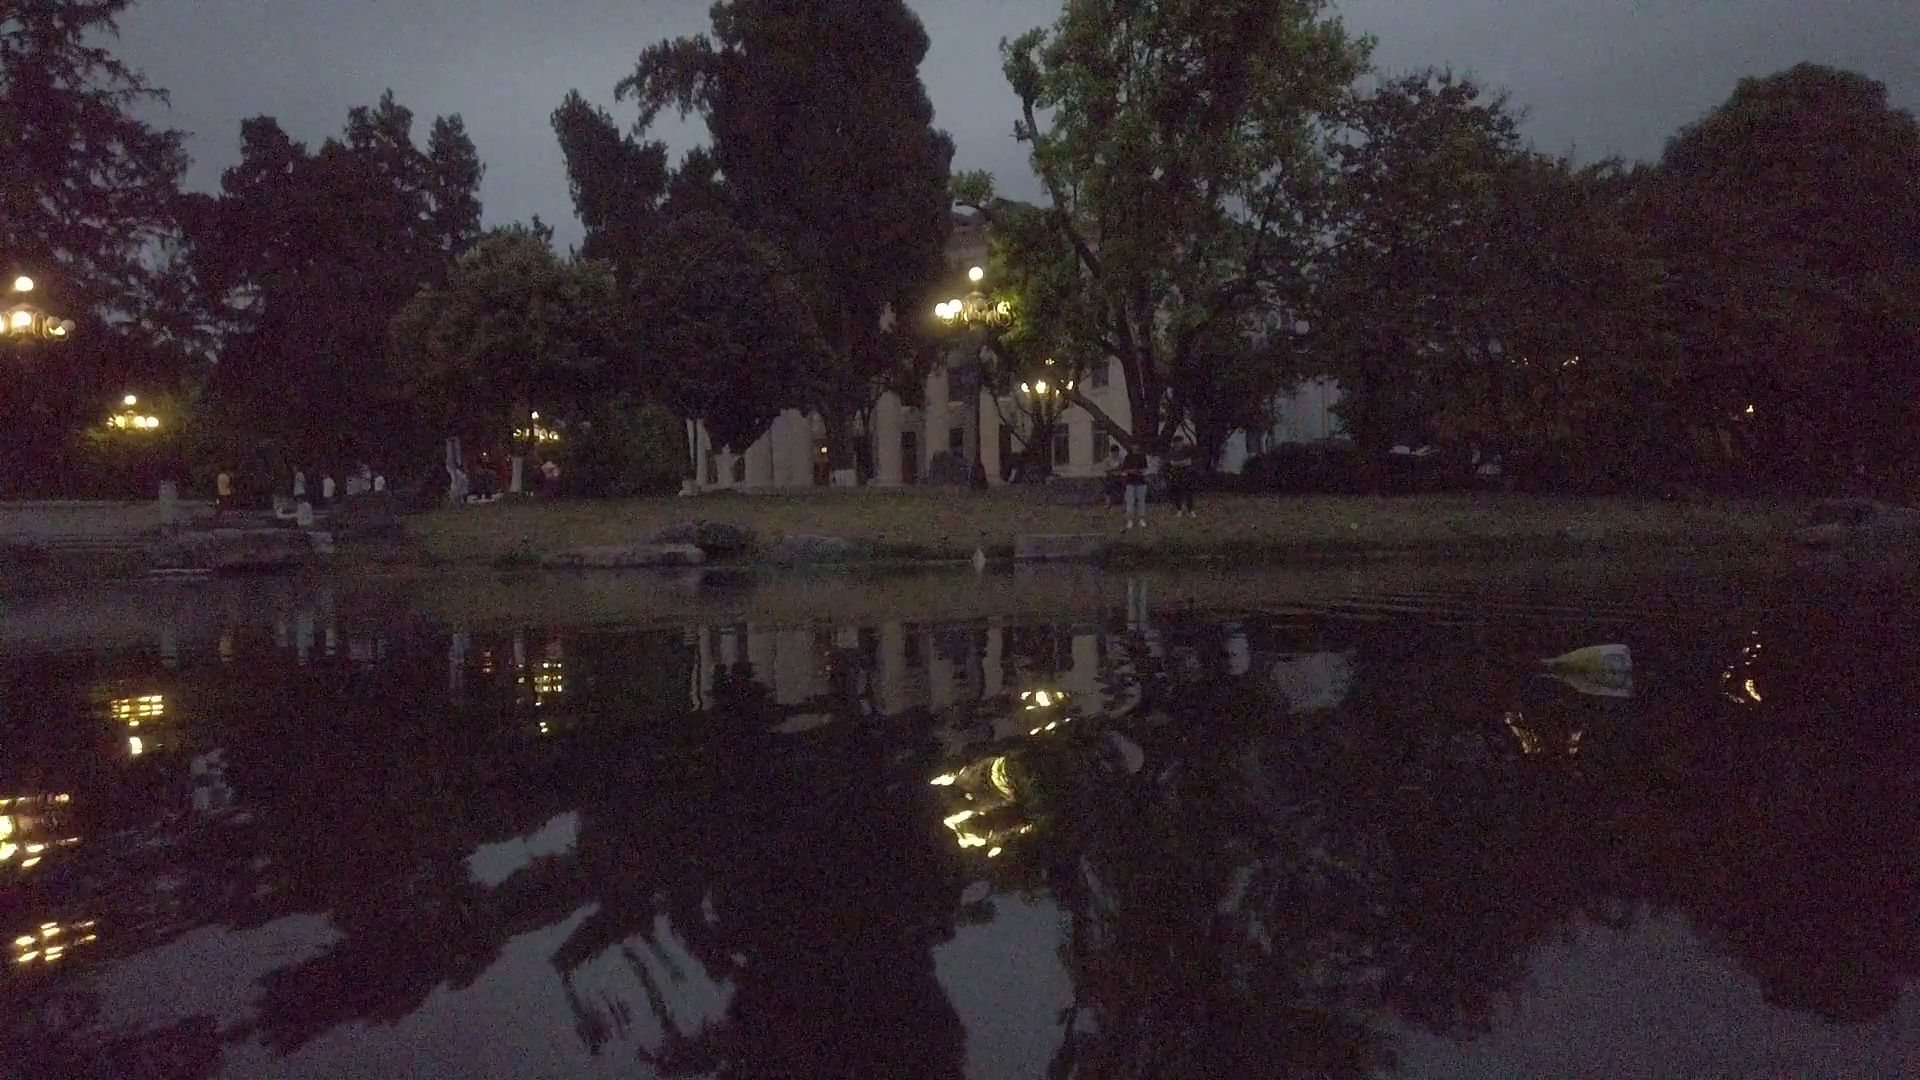bottle: (1531, 638, 1633, 680)
